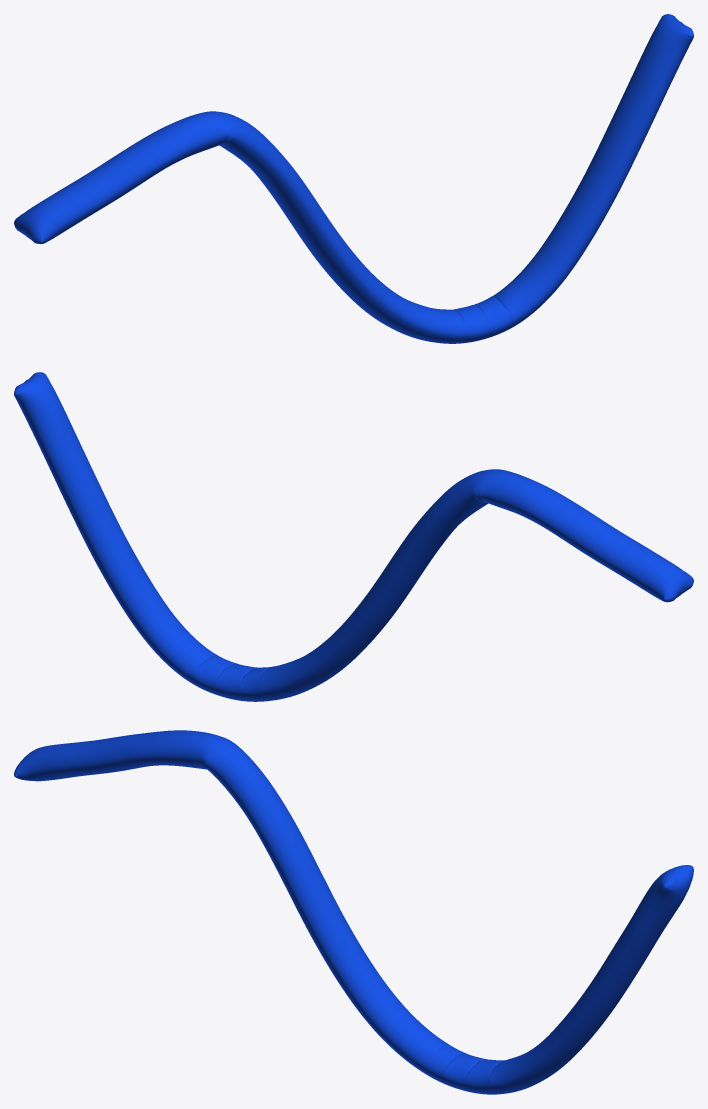
3 views of the same model, one above another, from view 1: azimuth 30°, elevation 25°; view 2: azimuth 150°, elevation 25°; view 3: azimuth 330°, elevation 25° (orthographic).
Parts seen in each view (by area): view 1: Plane; view 2: Plane; view 3: Plane.
Boxes of the visible parts, x1,y1,x2,y2 form: Plane: (14,14,693,343); Plane: (14,372,693,701); Plane: (14,730,693,1094).
Bounding box in the file's own units: 22.95 × 9.56 × 1.69.
